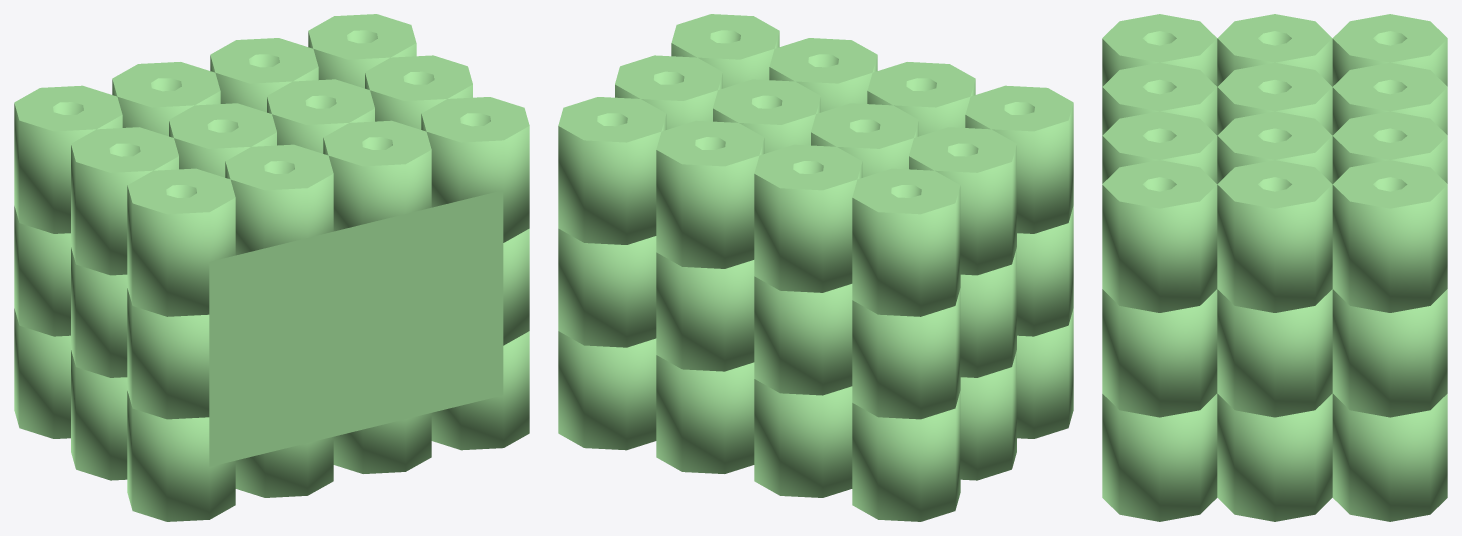
Rendered from p_ToiletPaper.fbx.
The picture shows the model from 3 angles, left to right: view 1: azimuth 30°, elevation 25°; view 2: azimuth 150°, elevation 25°; view 3: azimuth 270°, elevation 25°; orthographic projection.
Parts seen in each view (by area): view 1: p_ToiletPaper_36; view 2: p_ToiletPaper_36; view 3: p_ToiletPaper_36.
Part boxes in pixels (x1=…): p_ToiletPaper_36: x1=14, y1=14, x2=529, y2=521; p_ToiletPaper_36: x1=558, y1=14, x2=1073, y2=521; p_ToiletPaper_36: x1=1102, y1=14, x2=1447, y2=521.
Bounding box in the file's own units: 25 × 18.75 × 18.75.
